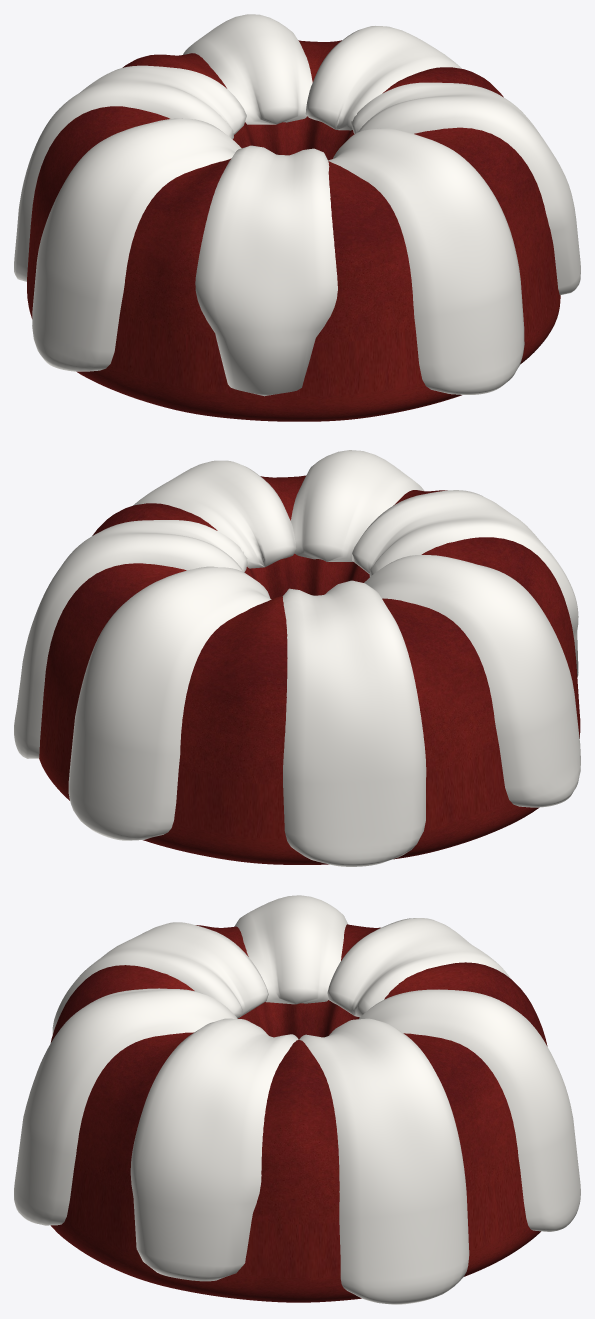
The model's file is bundt_redvelvet_6.glb.
3 renders of one model, top to bottom at view 1: azimuth 30°, elevation 25°; view 2: azimuth 150°, elevation 25°; view 3: azimuth 270°, elevation 25°, orthographic. The views are drawn at different scales.
Parts seen in each view (by area): view 1: cake.001, frosting.005, frosting.004, frosting.003, frosting.006, frosting.002, frosting.001, frosting; view 2: cake.001, frosting.002, frosting.001, frosting.003, frosting, frosting.004, frosting.005, frosting.006; view 3: cake.001, frosting, frosting.006, frosting.001, frosting.005, frosting.003, frosting.004, frosting.002.
Part boxes in pixels (x1,y1,x2,y2): cake.001: (27, 40, 560, 421); frosting.005: (328, 128, 524, 394); frosting.004: (195, 145, 337, 396); frosting.003: (32, 118, 241, 371); frosting.006: (351, 82, 580, 295); frosting.002: (14, 65, 246, 281); frosting.001: (183, 14, 312, 124); frosting: (305, 26, 461, 130); cake.001: (39, 475, 580, 864); frosting.002: (282, 580, 426, 866); frosting.001: (68, 566, 271, 840); frosting.003: (364, 555, 580, 807); frosting: (14, 520, 247, 758); frosting.004: (352, 490, 578, 677); frosting.005: (291, 450, 424, 561); frosting.006: (133, 460, 296, 568); cake.001: (50, 924, 547, 1302); frosting: (299, 1018, 469, 1304); frosting.006: (130, 1018, 298, 1281); frosting.001: (359, 989, 580, 1231); frosting.005: (14, 988, 237, 1225); frosting.003: (234, 895, 347, 1004); frosting.004: (52, 922, 268, 1034); frosting.002: (327, 918, 510, 1017).
Size of the model in its own units: 0.1646 by 0.0732 by 0.1661.
Materials: 2 (1 with a texture image).
